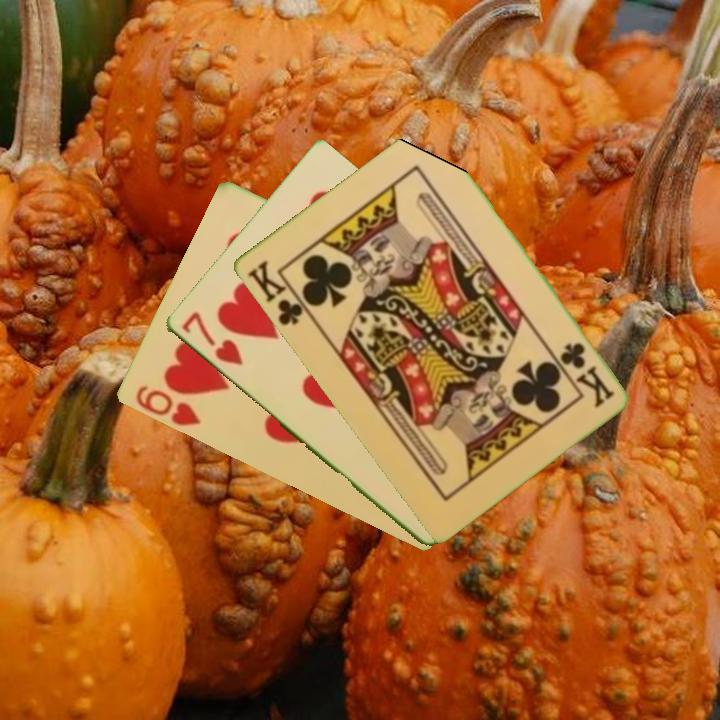6h: (131, 382, 203, 429)
7h: (177, 308, 246, 369)
Kc: (243, 256, 314, 329), (556, 338, 617, 410)
